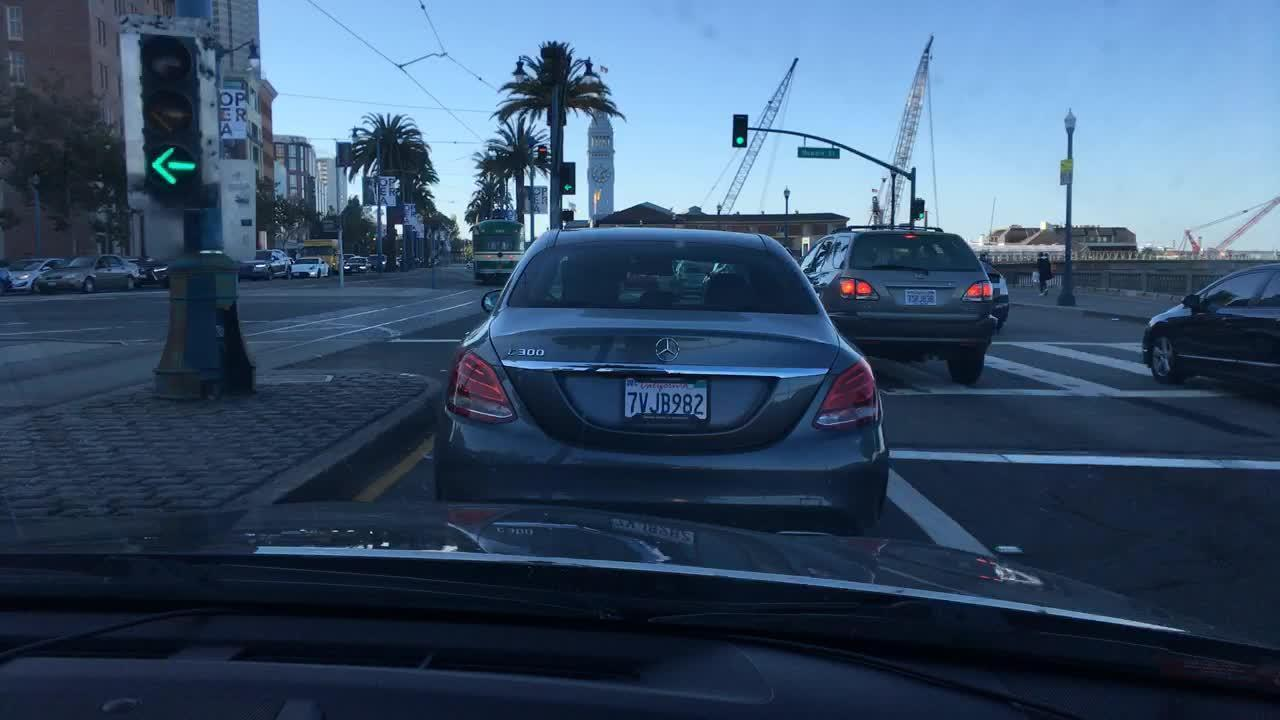Mercedes: (645, 330, 690, 370)
